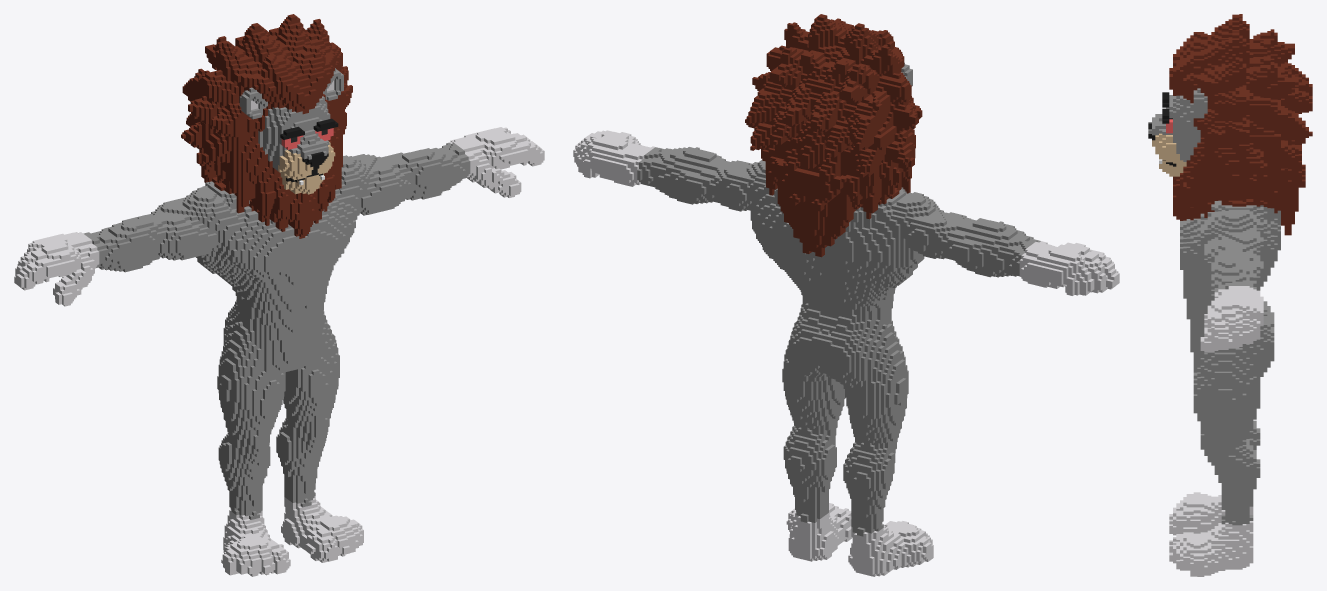
Rendered from 174-DNY2cvwI.glb.
The picture shows the model from 3 angles, left to right: view 1: azimuth 30°, elevation 25°; view 2: azimuth 150°, elevation 25°; view 3: azimuth 270°, elevation 25°; orthographic projection. The views are drawn at different scales.
Visible parts, largest first — view 1: standard; view 2: standard; view 3: standard.
Part boxes in pixels (bbox=[...]): standard: bbox=[14, 14, 544, 576]; standard: bbox=[573, 14, 1119, 576]; standard: bbox=[1148, 14, 1312, 576].
Bounding box in the file's own units: 17.2 × 16.5 × 4.7.
Materials: 4 (4 with a texture image).
